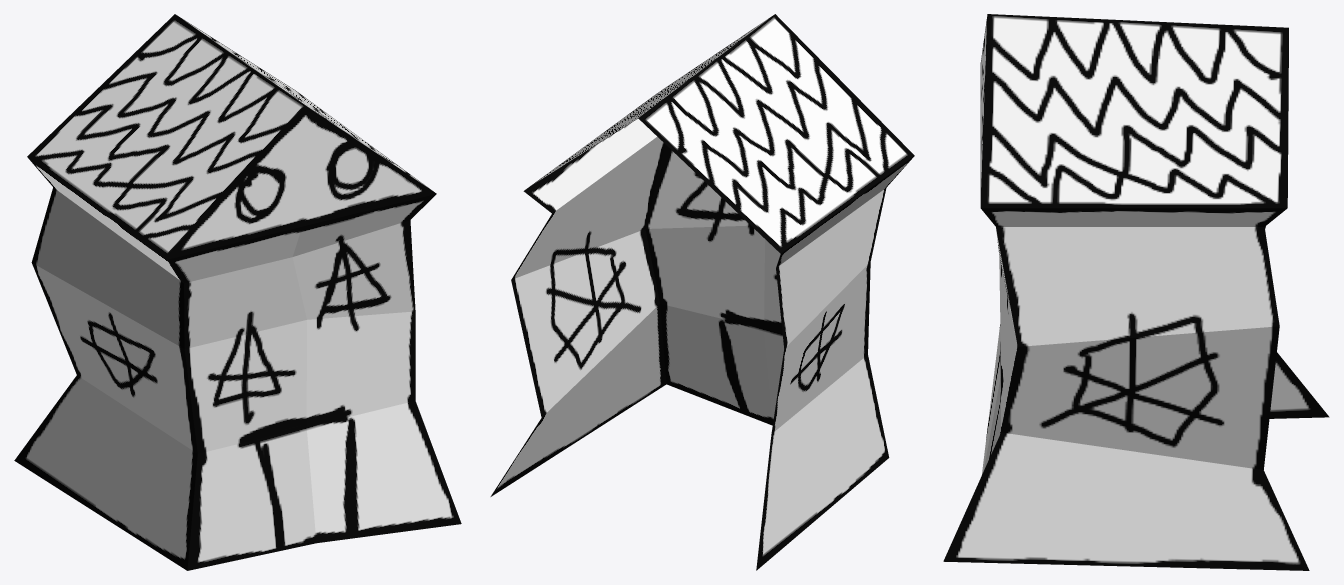
File: house1.fbx
3 renders of one model, left to right at view 1: azimuth 30°, elevation 25°; view 2: azimuth 150°, elevation 25°; view 3: azimuth 270°, elevation 25°, orthographic. The views are drawn at different scales.
Visible parts, largest first — view 1: Plane.007; view 2: Plane.007; view 3: Plane.007.
Boxes of the visible parts, box(x1,y1,x2,y2) form: Plane.007: box(14, 14, 461, 570); Plane.007: box(490, 14, 914, 570); Plane.007: box(943, 14, 1329, 570).
Size of the model in its own units: 1111 by 1571 by 1156.
